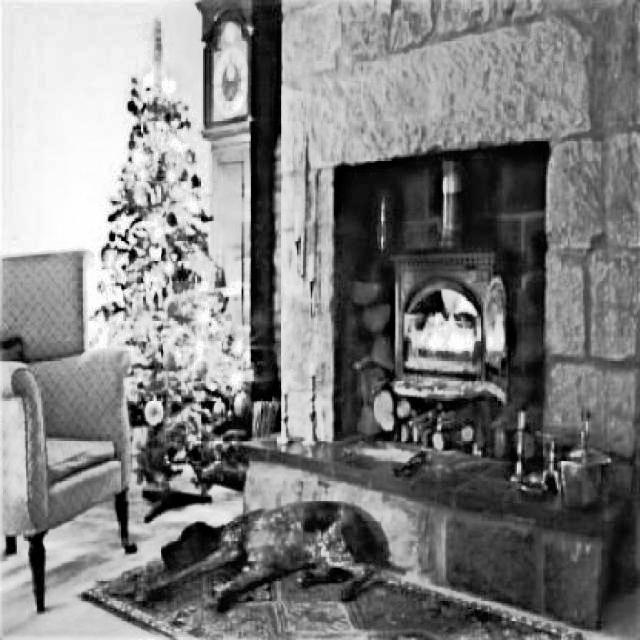Dog: (140, 496, 397, 614)
